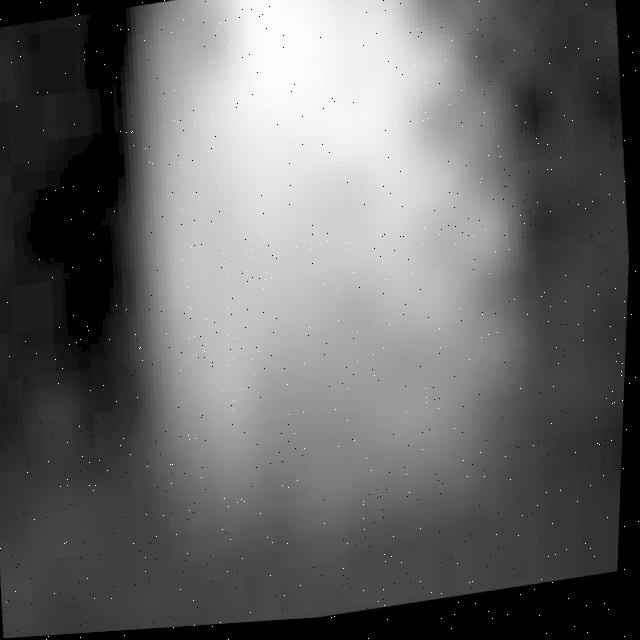person: (84, 1, 556, 570)
